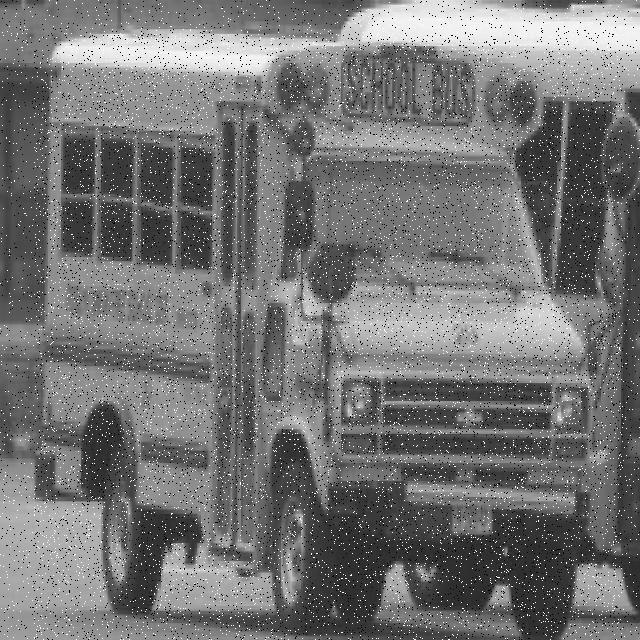Bus- Small: (34, 33, 623, 640)
